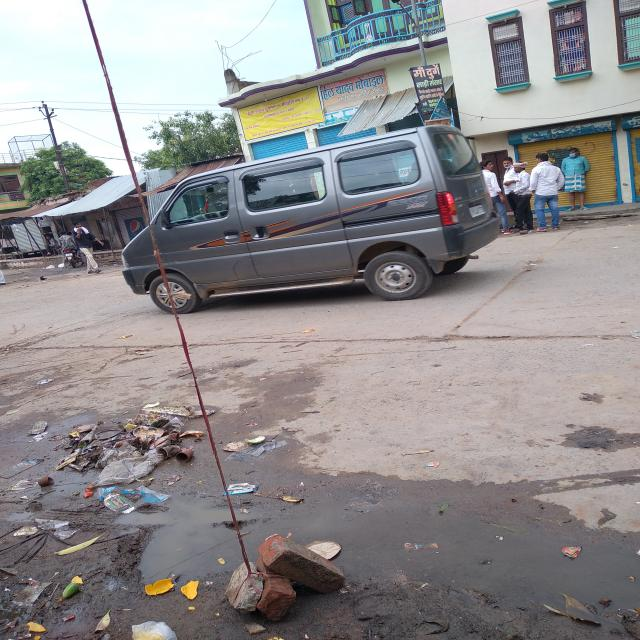Car: (122, 126, 500, 312)
